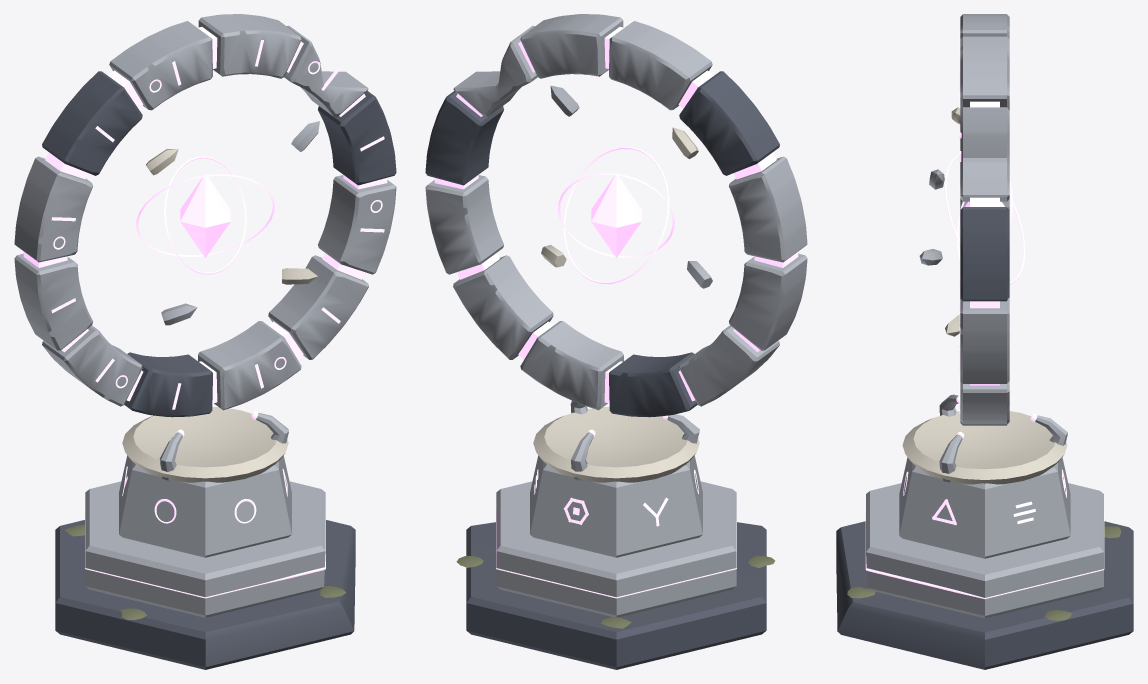
File: deco_monolith_ring.fbx
3 views of the same model, side by side, from view 1: azimuth 30°, elevation 25°; view 2: azimuth 150°, elevation 25°; view 3: azimuth 270°, elevation 25° (orthographic).
Visible parts, largest first — view 1: Monolith_Ring_Ring, Monolith_Ring_Plinth, Monolith_Ring_Core; view 2: Monolith_Ring_Ring, Monolith_Ring_Plinth, Monolith_Ring_Core; view 3: Monolith_Ring_Plinth, Monolith_Ring_Ring, Monolith_Ring_Core.
Part boxes in pixels (box(x1,y1,x2,y2)): Monolith_Ring_Ring: box(14, 14, 396, 417); Monolith_Ring_Plinth: box(55, 406, 355, 669); Monolith_Ring_Core: box(136, 121, 319, 325); Monolith_Ring_Ring: box(425, 14, 807, 417); Monolith_Ring_Plinth: box(456, 400, 774, 669); Monolith_Ring_Core: box(541, 85, 712, 288); Monolith_Ring_Plinth: box(836, 394, 1133, 669); Monolith_Ring_Ring: box(959, 14, 1009, 425); Monolith_Ring_Core: box(919, 107, 1025, 336).
Size of the model in its own units: 300 by 455 by 217.
